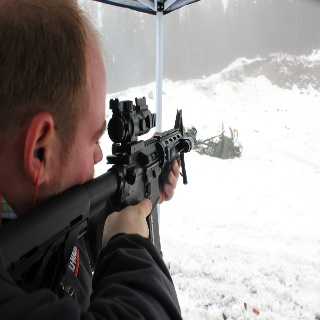rifle: (1, 96, 198, 291)
